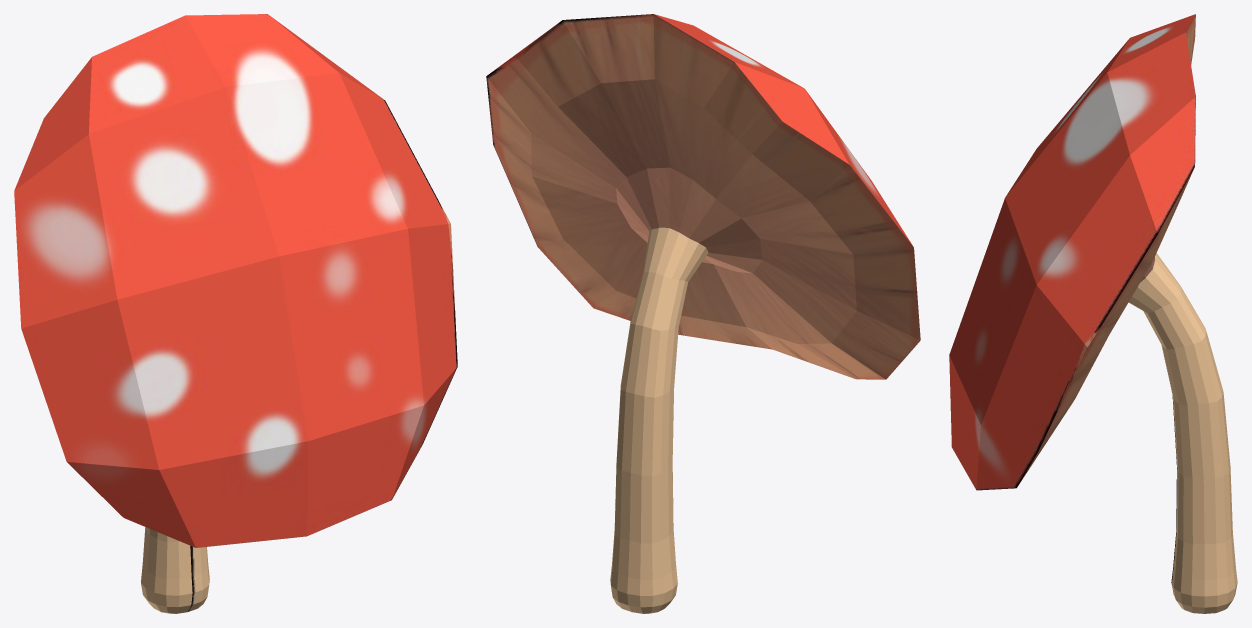
Rendered from MushGuard_Large.fbx.
The picture shows the model from 3 angles, left to right: view 1: azimuth 30°, elevation 25°; view 2: azimuth 150°, elevation 25°; view 3: azimuth 270°, elevation 25°; orthographic projection. The views are drawn at different scales.
Parts seen in each view (by area): view 1: Big Mush; view 2: Big Mush; view 3: Big Mush.
Part boxes in pixels (x1,y1,x2,y2): Big Mush: [14, 14, 457, 613]; Big Mush: [486, 14, 920, 613]; Big Mush: [949, 14, 1237, 613].
Size of the model in its own units: 16.78 by 10.14 by 22.35.
